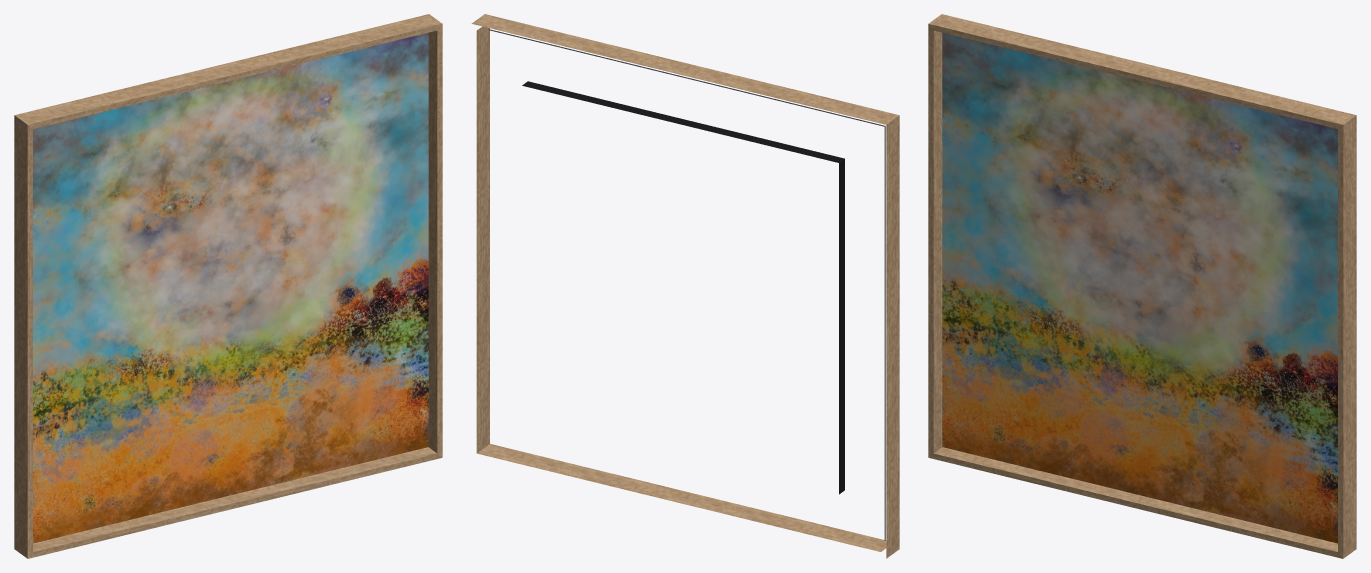
Rendered from va177_moyen_caisse-chene.glb.
3 views of the same model, side by side, from view 1: azimuth 30°, elevation 25°; view 2: azimuth 150°, elevation 25°; view 3: azimuth 330°, elevation 25° (orthographic).
Parts seen in each view (by area): view 1: va177_moyen_caisse-chene; view 2: va177_moyen_caisse-chene; view 3: va177_moyen_caisse-chene.
Boxes of the visible parts, x1,y1,x2,y2 form: va177_moyen_caisse-chene: [14, 14, 442, 558]; va177_moyen_caisse-chene: [471, 14, 899, 558]; va177_moyen_caisse-chene: [928, 14, 1356, 558].
Size of the model in its own units: 0.628 by 0.628 by 0.035.
Materials: 4 (2 with a texture image).
